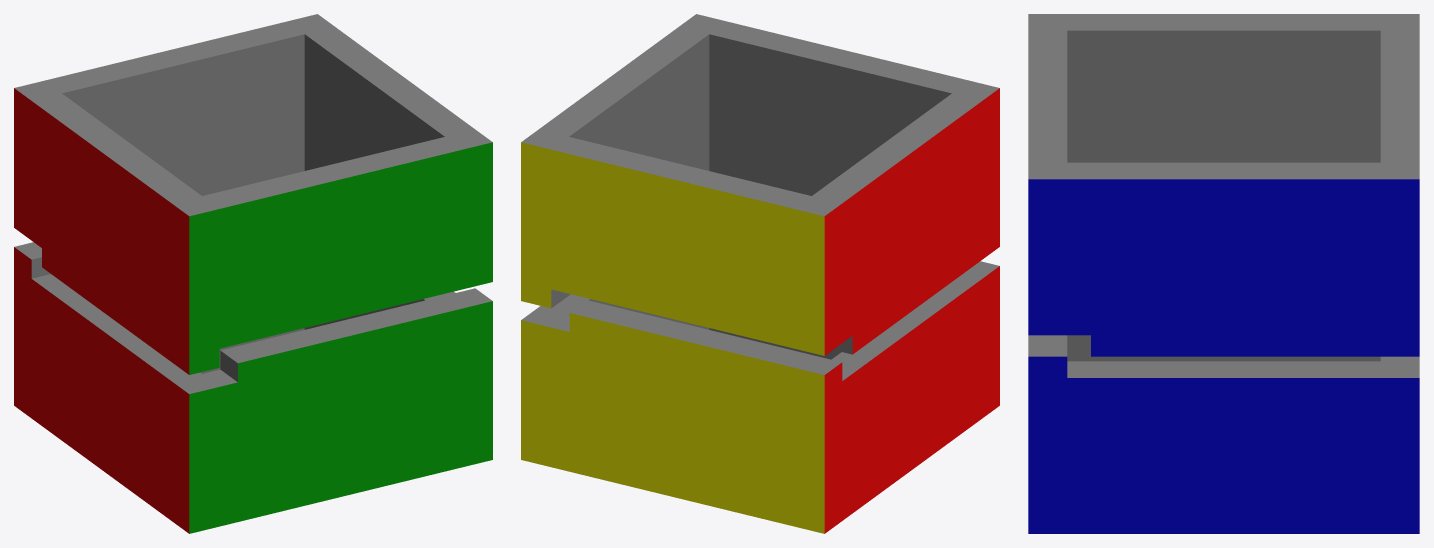
File: SketchupCaixa.gltf
3 renders of one model, left to right at view 1: azimuth 30°, elevation 25°; view 2: azimuth 150°, elevation 25°; view 3: azimuth 270°, elevation 25°, orthographic. The views are drawn at different scales.
Parts seen in each view (by area): view 1: root; view 2: root; view 3: root.
Part boxes in pixels (x1,y1,x2,y2): root: [14, 14, 492, 533]; root: [521, 14, 999, 533]; root: [1028, 14, 1419, 533].
Bounding box in the file's own units: 0.5 × 0.5 × 0.5.
